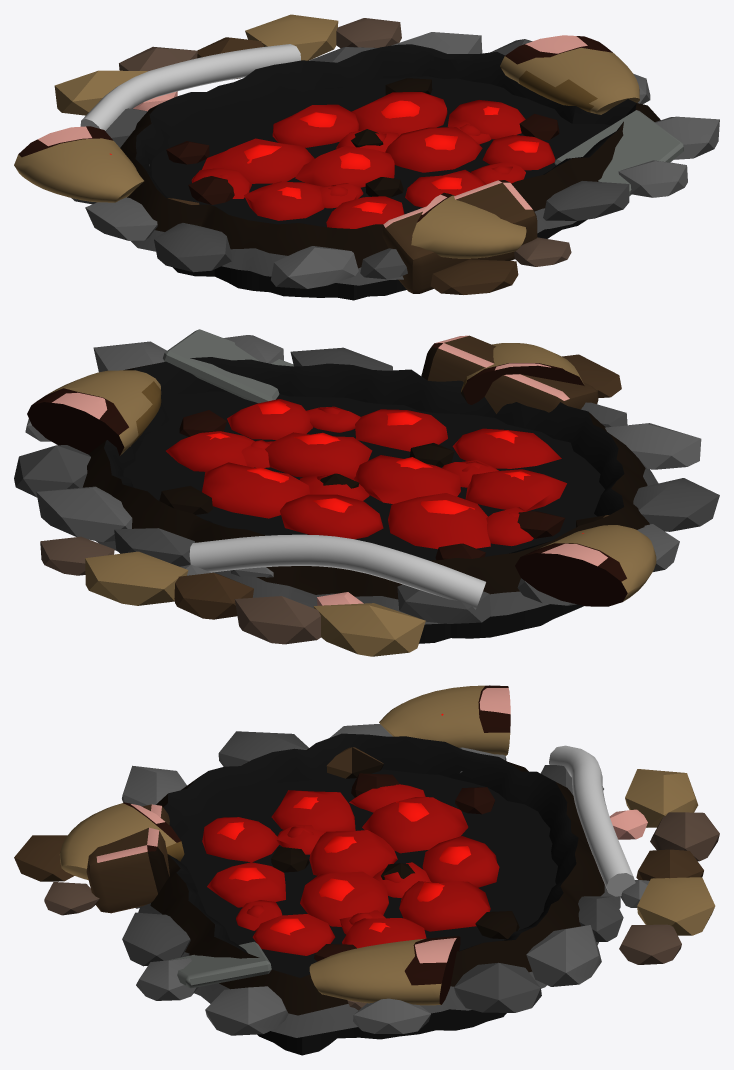
File: hood_turret_wreck.glb
3 renders of one model, top to bottom at view 1: azimuth 30°, elevation 25°; view 2: azimuth 150°, elevation 25°; view 3: azimuth 270°, elevation 25°, orthographic. The views are drawn at different scales.
Visible parts, largest first — view 1: crater_lip, crater_floor, claw_tip1, claw_tip0, ridge_bar, chin_block, claw_tip2, hood_plate, cobble5, cobble6, molten6, molten0 (+33 smaller); view 2: crater_lip, crater_floor, ridge_bar, claw_tip0, claw_tip1, chin_block, rubble0, rubble3, molten0, molten2, cobble2, hood_plate (+35 smaller); view 3: crater_lip, crater_floor, claw_tip1, claw_tip0, chin_block, ridge_bar, claw_tip2, molten0, rubble3, cobble3, cobble2, molten2 (+32 smaller).
Boxes of the visible parts, bbox=[...] form: crater_lip: bbox=[120, 44, 660, 285]; crater_floor: bbox=[151, 76, 610, 300]; claw_tip1: bbox=[500, 35, 639, 114]; claw_tip0: bbox=[14, 126, 143, 202]; ridge_bar: bbox=[80, 44, 300, 130]; chin_block: bbox=[382, 180, 537, 293]; claw_tip2: bbox=[411, 192, 526, 258]; hood_plate: bbox=[554, 110, 683, 196]; cobble5: bbox=[154, 223, 232, 272]; cobble6: bbox=[271, 246, 358, 288]; molten6: bbox=[385, 127, 482, 172]; molten0: bbox=[202, 138, 314, 183]; crater_lip: bbox=[82, 357, 658, 624]; crater_floor: bbox=[123, 391, 604, 643]; ridge_bar: bbox=[189, 534, 485, 609]; claw_tip0: bbox=[515, 525, 656, 606]; claw_tip1: bbox=[27, 370, 161, 455]; chin_block: bbox=[421, 335, 598, 413]; rubble0: bbox=[313, 603, 425, 656]; rubble3: bbox=[85, 551, 188, 605]; molten0: bbox=[388, 493, 490, 549]; molten2: bbox=[202, 462, 310, 518]; cobble2: bbox=[36, 486, 132, 542]; hood_plate: bbox=[163, 329, 293, 403]; crater_lip: bbox=[136, 733, 620, 1037]; crater_floor: bbox=[180, 769, 557, 1055]; claw_tip1: bbox=[309, 936, 460, 1005]; claw_tip0: bbox=[379, 685, 510, 755]; chin_block: bbox=[86, 804, 169, 913]; ridge_bar: bbox=[549, 745, 635, 896]; claw_tip2: bbox=[59, 802, 184, 879]; molten0: bbox=[362, 797, 468, 853]; rubble3: bbox=[637, 877, 715, 935]; cobble3: bbox=[454, 962, 541, 1012]; cobble2: bbox=[526, 925, 601, 986]; molten2: bbox=[399, 881, 490, 931].
Size of the model in its own units: 24.51 by 3.99 by 23.1.
